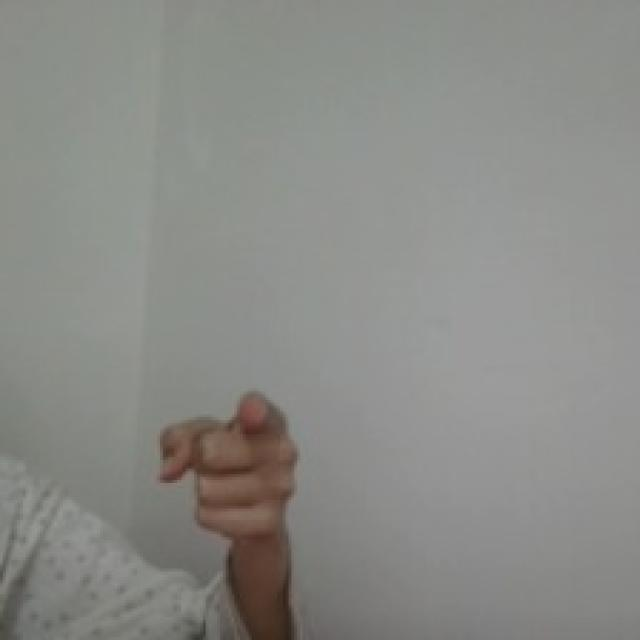you: (149, 383, 306, 547)
